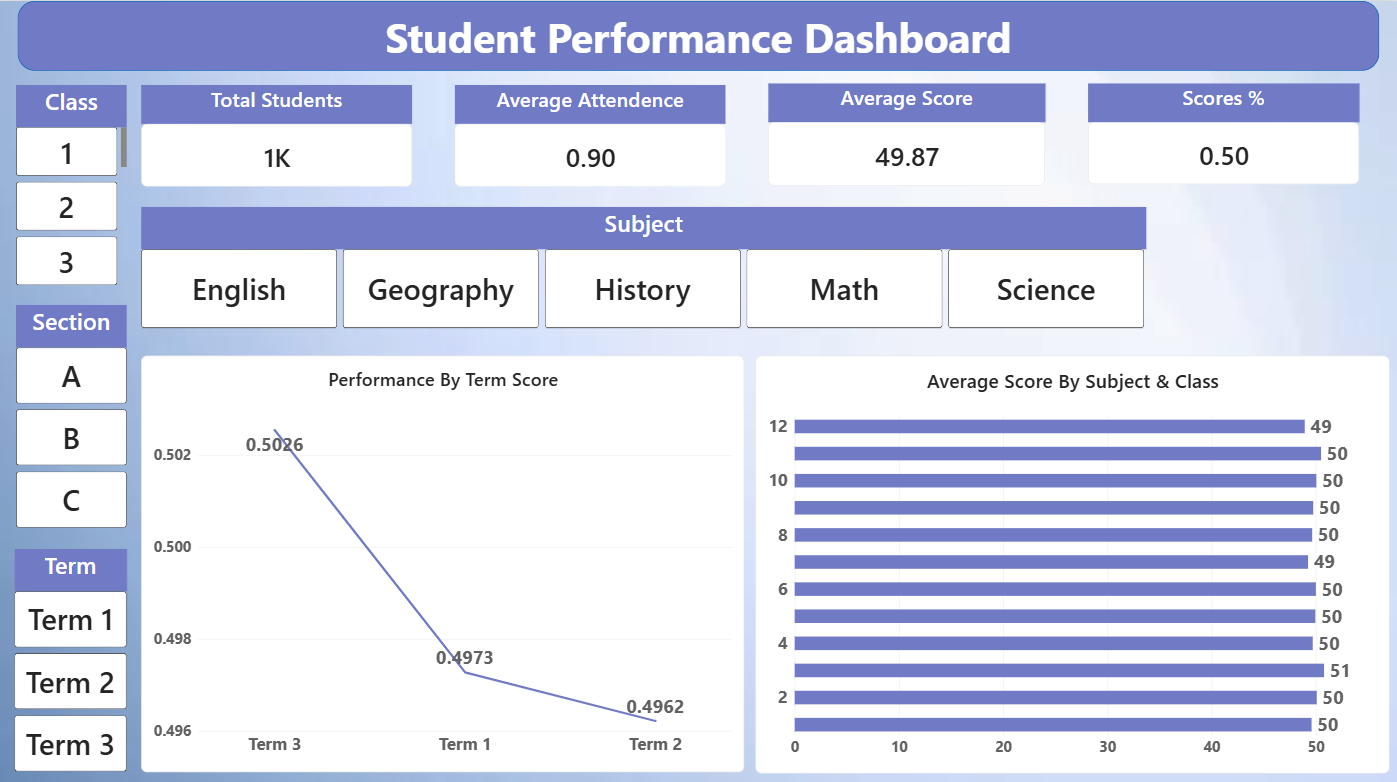

What the dashboard file says about the page in this screenshot:
{"tool":"powerbi","page":{"name":"Student Performance Dashboard","canvas":[1920,1080],"ordinal":0},"visuals":[{"type":"shape","box":[25.3,0,1869.4,95.9],"z":0},{"type":"barChart","title":"Average Score By Subject & Class","fields":{"Category":["Students - Students csv.Class"],"Y":["Students - Students csv.Average Score per Subject"]},"box":[1040,486.7,870,573.3],"z":1000},{"type":"advancedSlicerVisual","fields":{"Values":["Students - Students csv.Class"]},"box":[24,116,152,278],"z":2000},{"type":"advancedSlicerVisual","fields":{"Values":["Students - Students csv.Section"]},"box":[24,418,152,306],"z":3000},{"type":"advancedSlicerVisual","fields":{"Values":["Scores.Subject"]},"box":[196.7,283.3,1380,166.7],"z":4000},{"type":"advancedSlicerVisual","fields":{"Values":["Scores.Term"]},"box":[22,752,154,306],"z":5000},{"type":"cardVisual","title":"Total Students","fields":{"Data":["Count(Students - Students csv.StudentID)"]},"box":[195.7,115.2,372,140],"z":6000},{"type":"cardVisual","title":"Average Attendence","fields":{"Data":["Students - Students csv.Attendance %"]},"box":[626.1,115.2,372,140],"z":7000},{"type":"lineChart","title":"Performance By  Term Score","fields":{"Category":["Scores.Term"],"Y":["Students - Students csv.% Score"]},"box":[196,486,828,572],"z":9000},{"type":"cardVisual","title":"Average Score","fields":{"Data":["Students - Students csv.Average Score per Subject"]},"box":[1056.5,113,380.4,141.3],"z":10001},{"type":"cardVisual","title":"Scores %","fields":{"Data":["Students - Students csv.% Score"]},"box":[1495.7,113,372.5,138.8],"z":10002}]}

Visuals, with their boxes in screenshot pixels (x1, y1, x2, y2), scaled from the page's 1920x1080 canvas onto the 1397x782 screenshot:
shape: {"left": 18, "top": 0, "right": 1379, "bottom": 69}
"Average Score By Subject & Class" barChart: {"left": 757, "top": 352, "right": 1390, "bottom": 768}
advancedSlicerVisual - Students - Students csv.Class: {"left": 17, "top": 84, "right": 128, "bottom": 285}
advancedSlicerVisual - Students - Students csv.Section: {"left": 17, "top": 303, "right": 128, "bottom": 524}
advancedSlicerVisual - Scores.Subject: {"left": 143, "top": 205, "right": 1147, "bottom": 326}
advancedSlicerVisual - Scores.Term: {"left": 16, "top": 545, "right": 128, "bottom": 766}
"Total Students" cardVisual: {"left": 142, "top": 83, "right": 413, "bottom": 185}
"Average Attendence" cardVisual: {"left": 456, "top": 83, "right": 726, "bottom": 185}
"Performance By  Term Score" lineChart: {"left": 143, "top": 352, "right": 745, "bottom": 766}
"Average Score" cardVisual: {"left": 769, "top": 82, "right": 1045, "bottom": 184}
"Scores %" cardVisual: {"left": 1088, "top": 82, "right": 1359, "bottom": 182}
